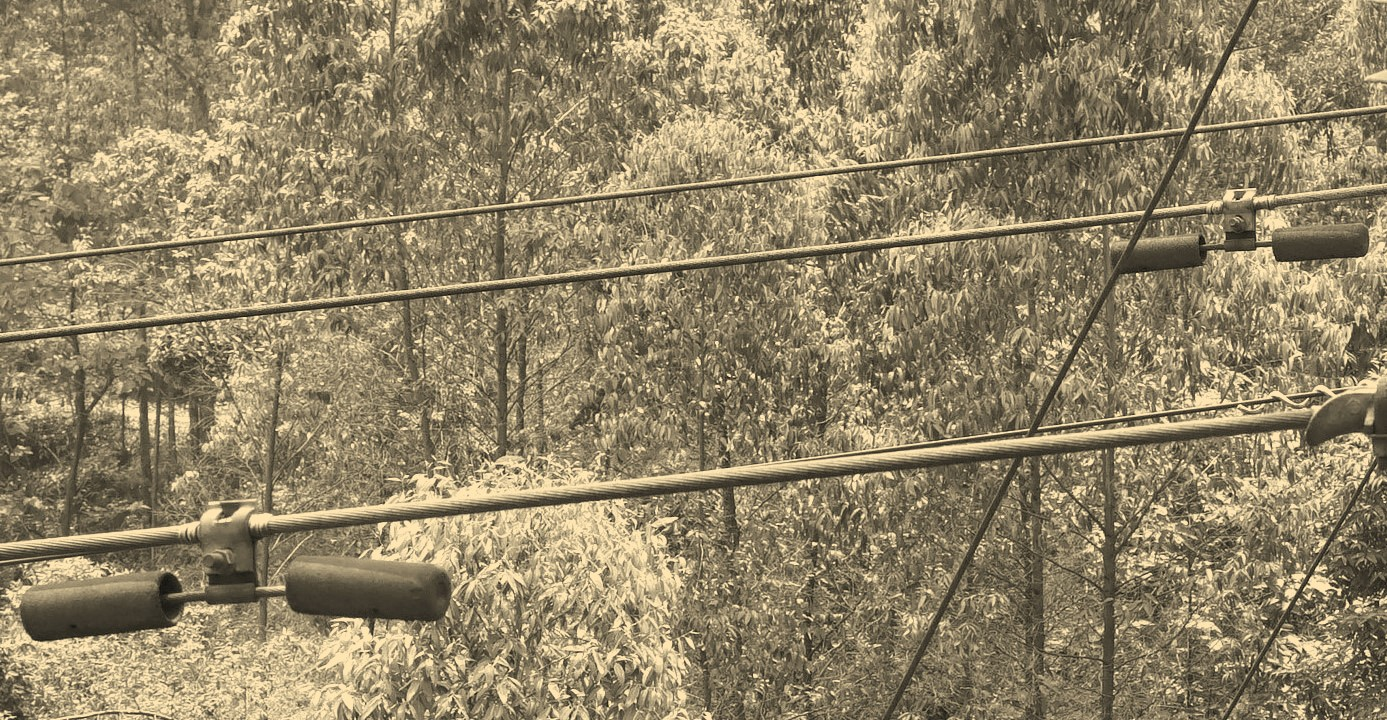Shockproof hammer: (8, 491, 473, 645), (1099, 179, 1374, 279)
